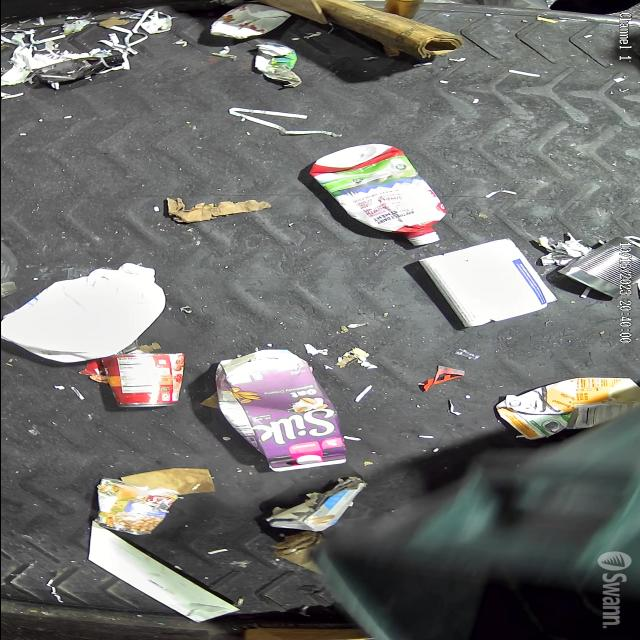can: (90, 348, 190, 414), (561, 235, 638, 303)
milk_jug: (0, 260, 170, 354)
